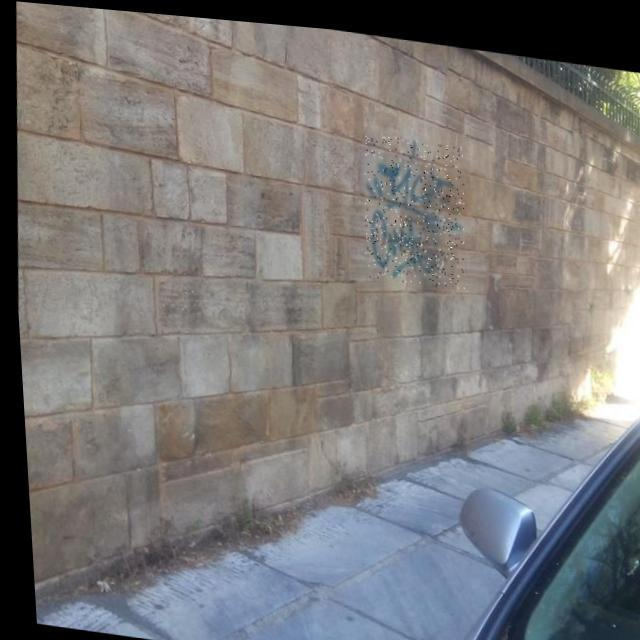-: (356, 126, 468, 282)
